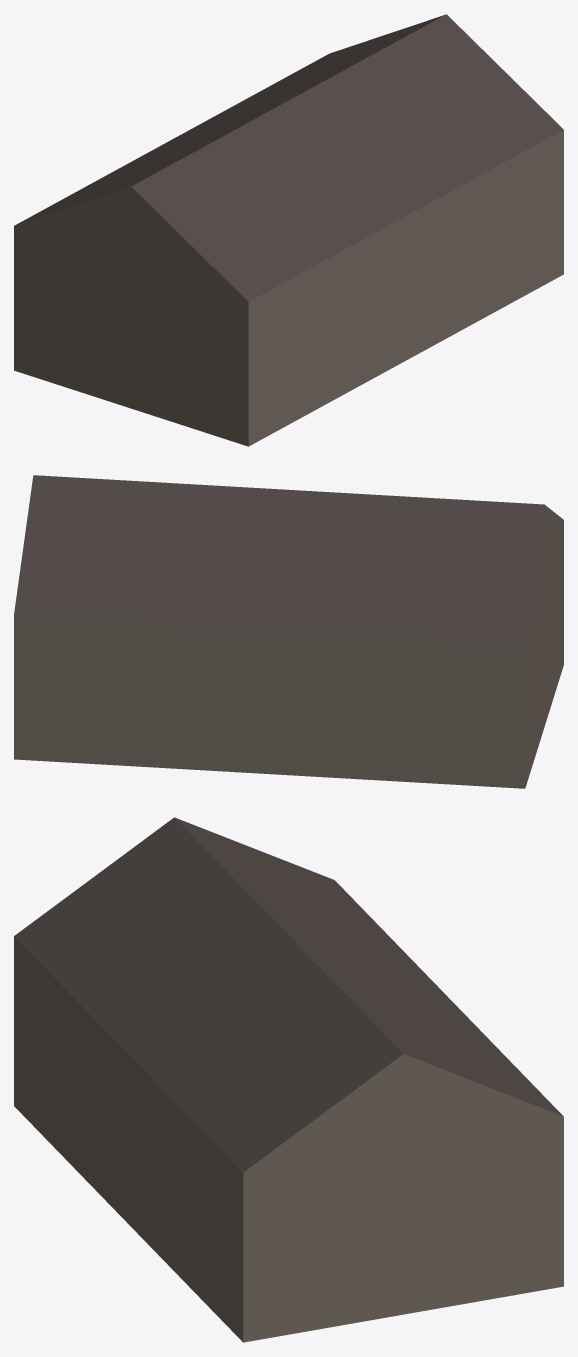
3 views of the same model, one above another, from view 1: azimuth 30°, elevation 25°; view 2: azimuth 150°, elevation 25°; view 3: azimuth 270°, elevation 25° (orthographic). The views are drawn at different scales.
Visible parts, largest first — view 1: HP-w693448181; view 2: HP-w693448181; view 3: HP-w693448181.
Boxes of the visible parts, x1=… form: HP-w693448181: x1=14, y1=14, x2=563, y2=446; HP-w693448181: x1=14, y1=475, x2=563, y2=788; HP-w693448181: x1=14, y1=817, x2=563, y2=1342.
Size of the model in its own units: 22.17 by 9.21 by 17.61.
